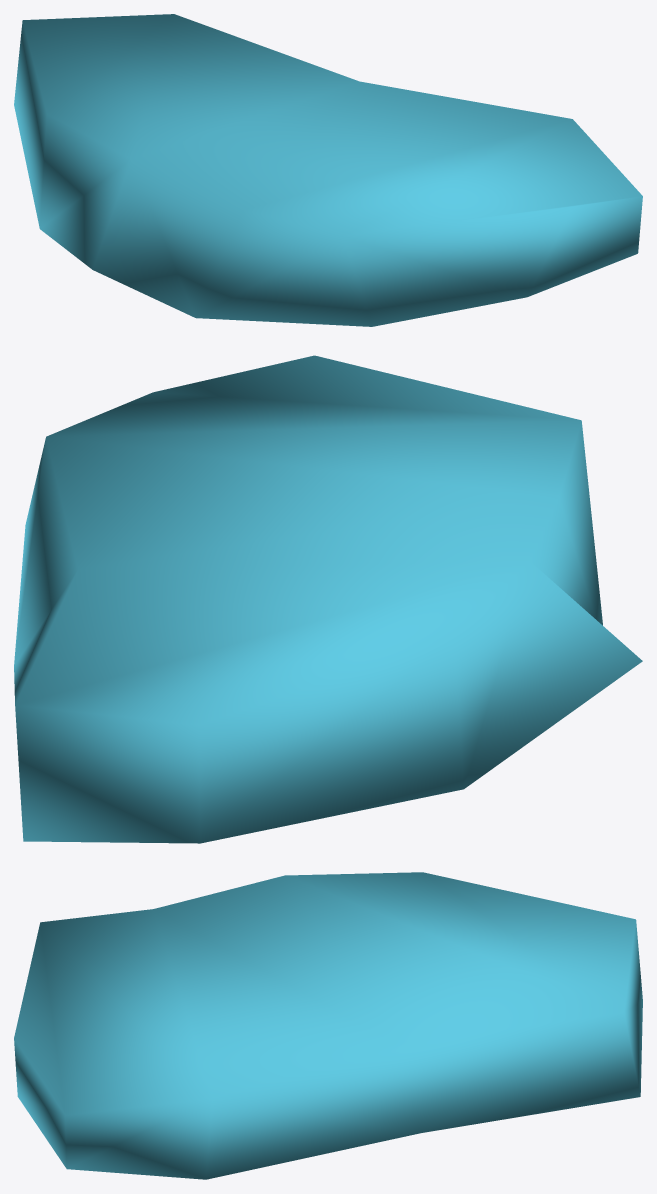
Rendered from brick_17.FBX.
3 views of the same model, one above another, from view 1: azimuth 30°, elevation 25°; view 2: azimuth 150°, elevation 25°; view 3: azimuth 270°, elevation 25° (orthographic). The views are drawn at different scales.
Visible parts, largest first — view 1: brick_17; view 2: brick_17; view 3: brick_17.
Part boxes in pixels (x1,y1,x2,y2): brick_17: (14,14,642,326); brick_17: (14,355,642,843); brick_17: (14,872,642,1179).
Bounding box in the file's own units: 18.38 × 4.7 × 21.15.
